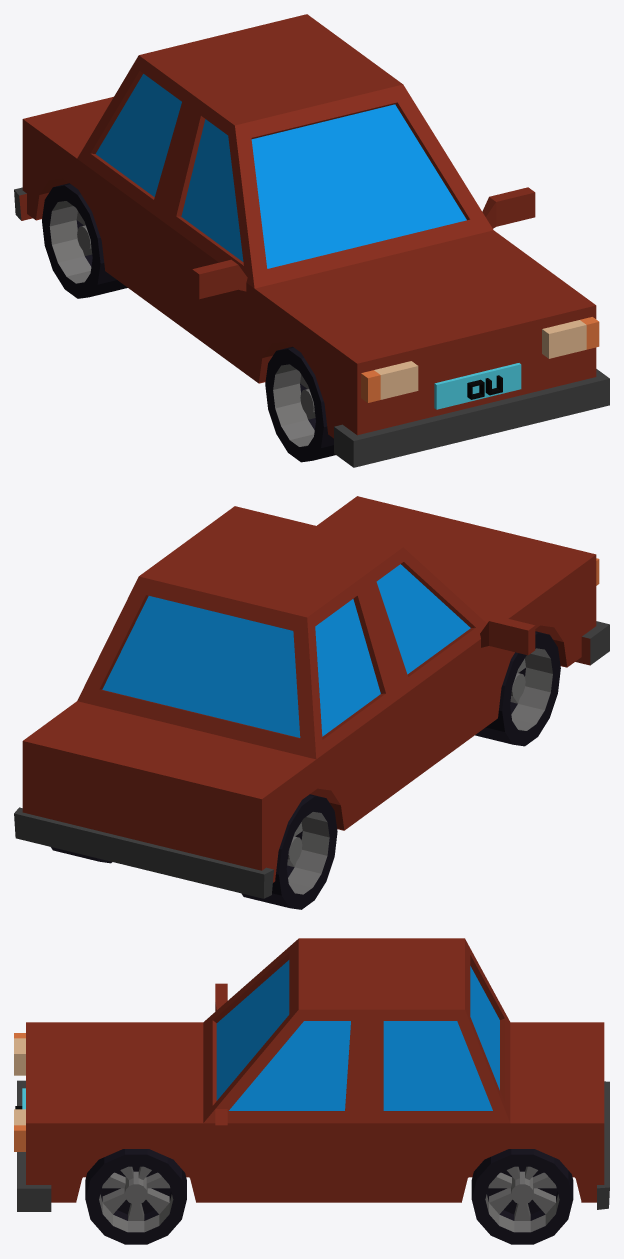
File: test_car_with_wheels (8).glb
3 renders of one model, top to bottom at view 1: azimuth 30°, elevation 25°; view 2: azimuth 150°, elevation 25°; view 3: azimuth 270°, elevation 25°, orthographic. The views are drawn at different scales.
Visible parts, largest first — view 1: Car, back_right_wheel, front_right_wheel; view 2: Car, back_right_wheel, front_right_wheel; view 3: Car, back_left_wheel, front_left_wheel.
Part boxes in pixels (x1,y1,x2,y2): Car: [14, 14, 609, 467]; back_right_wheel: [42, 183, 127, 298]; front_right_wheel: [265, 346, 335, 462]; Car: [14, 496, 609, 898]; back_right_wheel: [241, 794, 337, 909]; front_right_wheel: [475, 631, 560, 746]; Car: [14, 938, 609, 1211]; back_left_wheel: [471, 1149, 573, 1244]; front_left_wheel: [85, 1149, 186, 1244].
Size of the model in its own units: 2.53 by 1.83 by 4.49.
